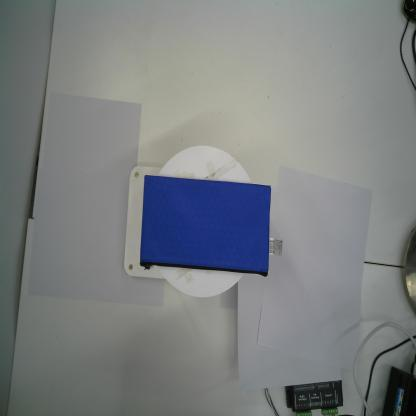Stationery: (140, 174, 272, 278)
